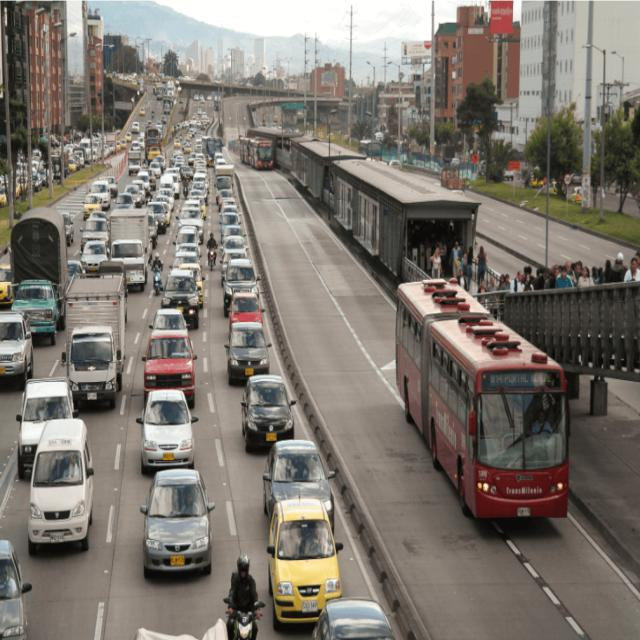BUS: (392, 290, 566, 536)
